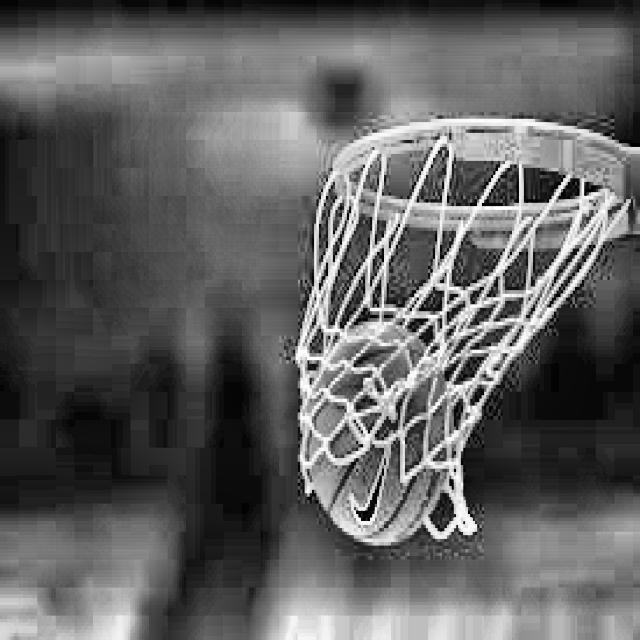Basketball: (303, 322, 454, 546)
